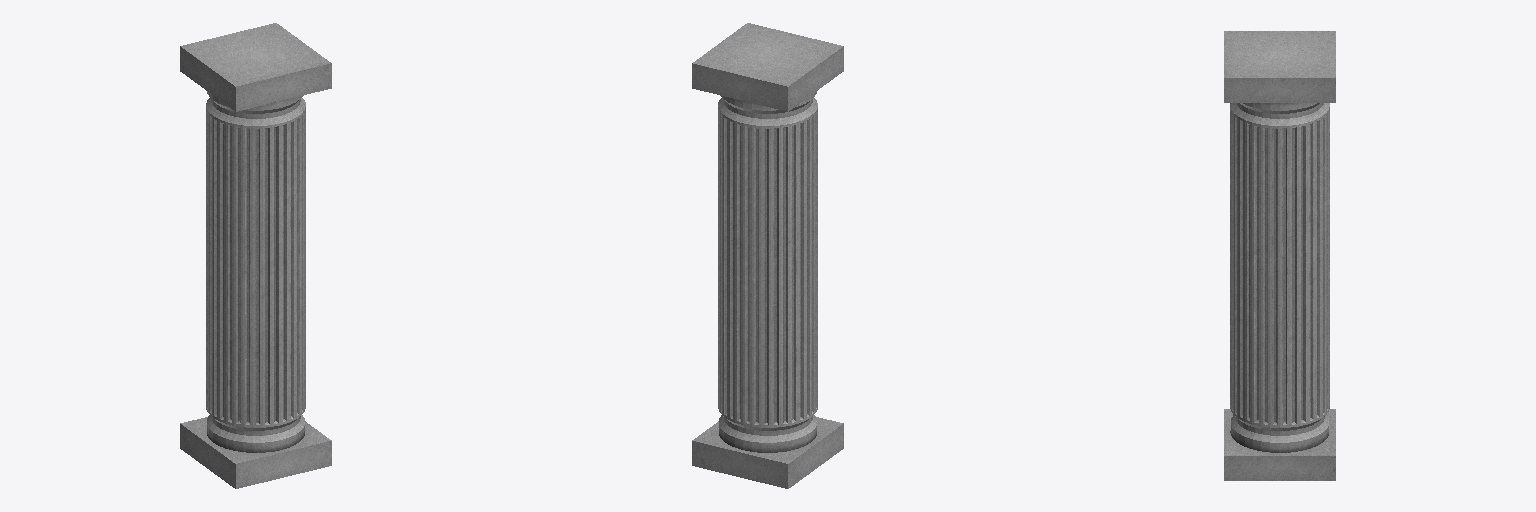
3 renders of one model, left to right at view 1: azimuth 30°, elevation 25°; view 2: azimuth 150°, elevation 25°; view 3: azimuth 270°, elevation 25°, orthographic.
Parts seen in each view (by area): view 1: old-column; view 2: old-column; view 3: old-column.
Boxes of the visible parts, <box> form: old-column: <box>180,23,331,488</box>; old-column: <box>692,23,843,488</box>; old-column: <box>1224,31,1335,480</box>.
Size of the model in its own units: 2 by 8 by 2.
1 materials, 1 textured.